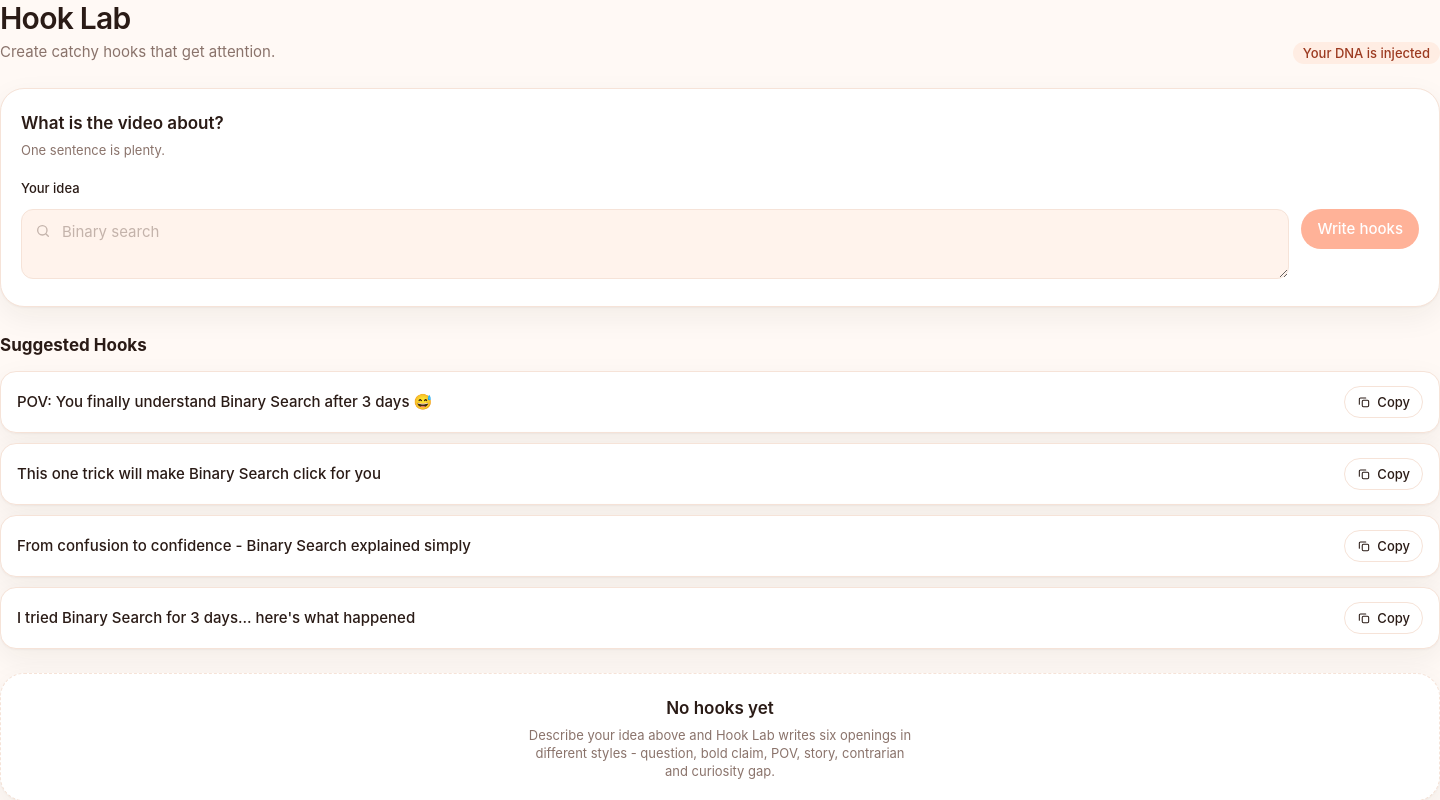
HookLabPage › edits a hook inline
The image size is (1440, 800).
In the text box labelled "Your idea": (655, 244) [21,209,1289,279], type "Explain binary search"
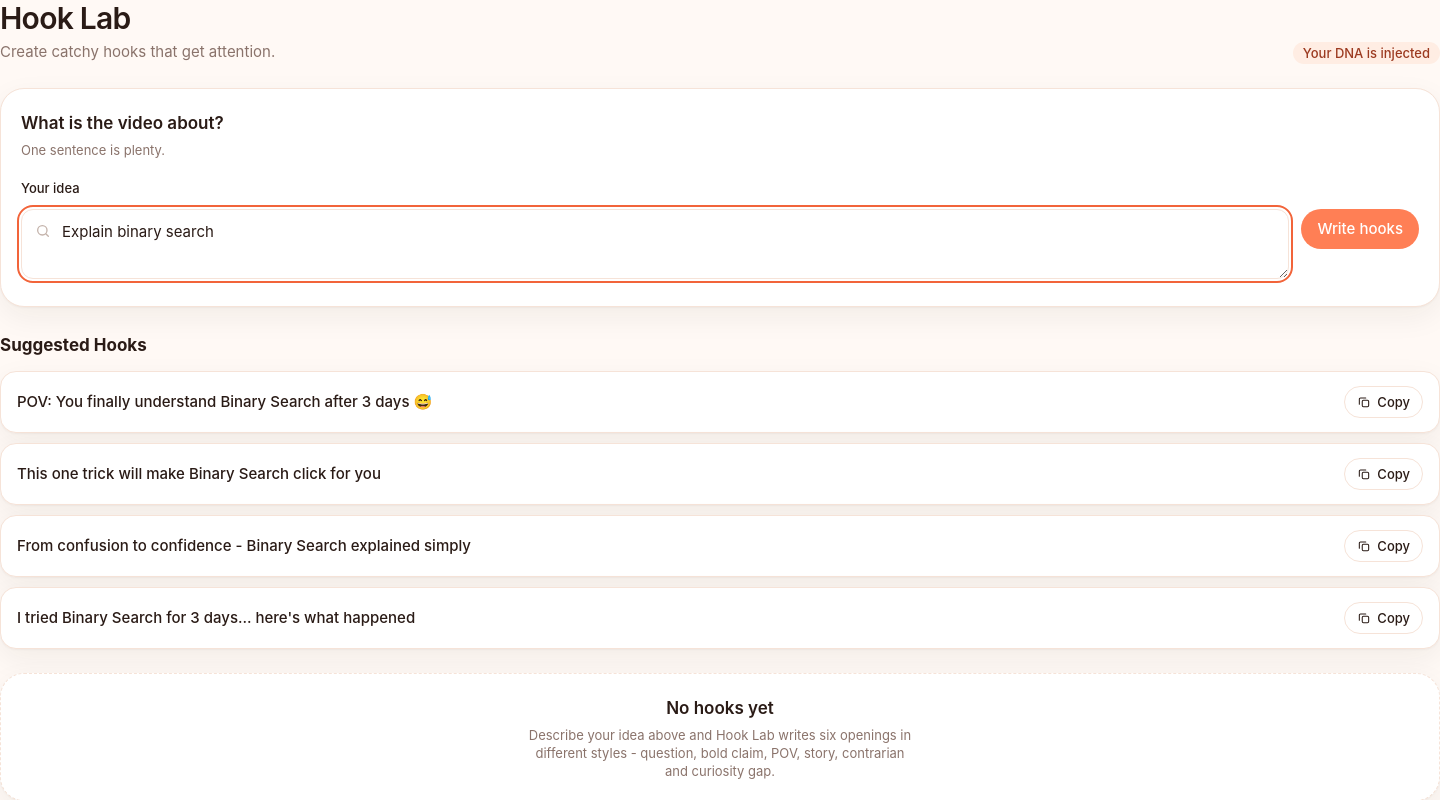
Click the button "Write hooks": click(1360, 229) [1301,209,1419,249]
(page scrolled)
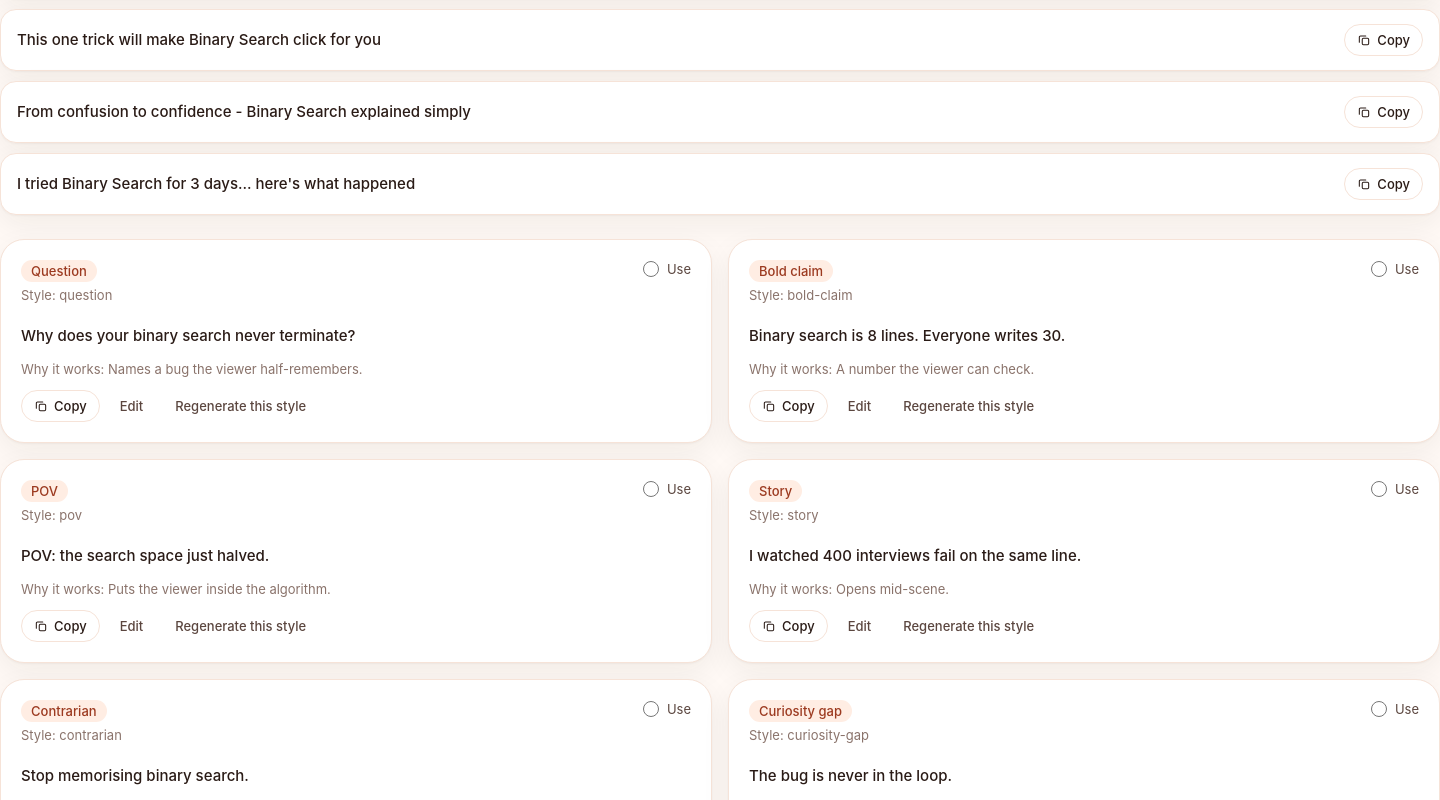
Result: the text "Why does your binary search never terminate?" is shown at [21,326,356,344]
Click the button "Edit" below "Names a bug the viewer half-remembers.": click(132, 406) [108,390,155,422]
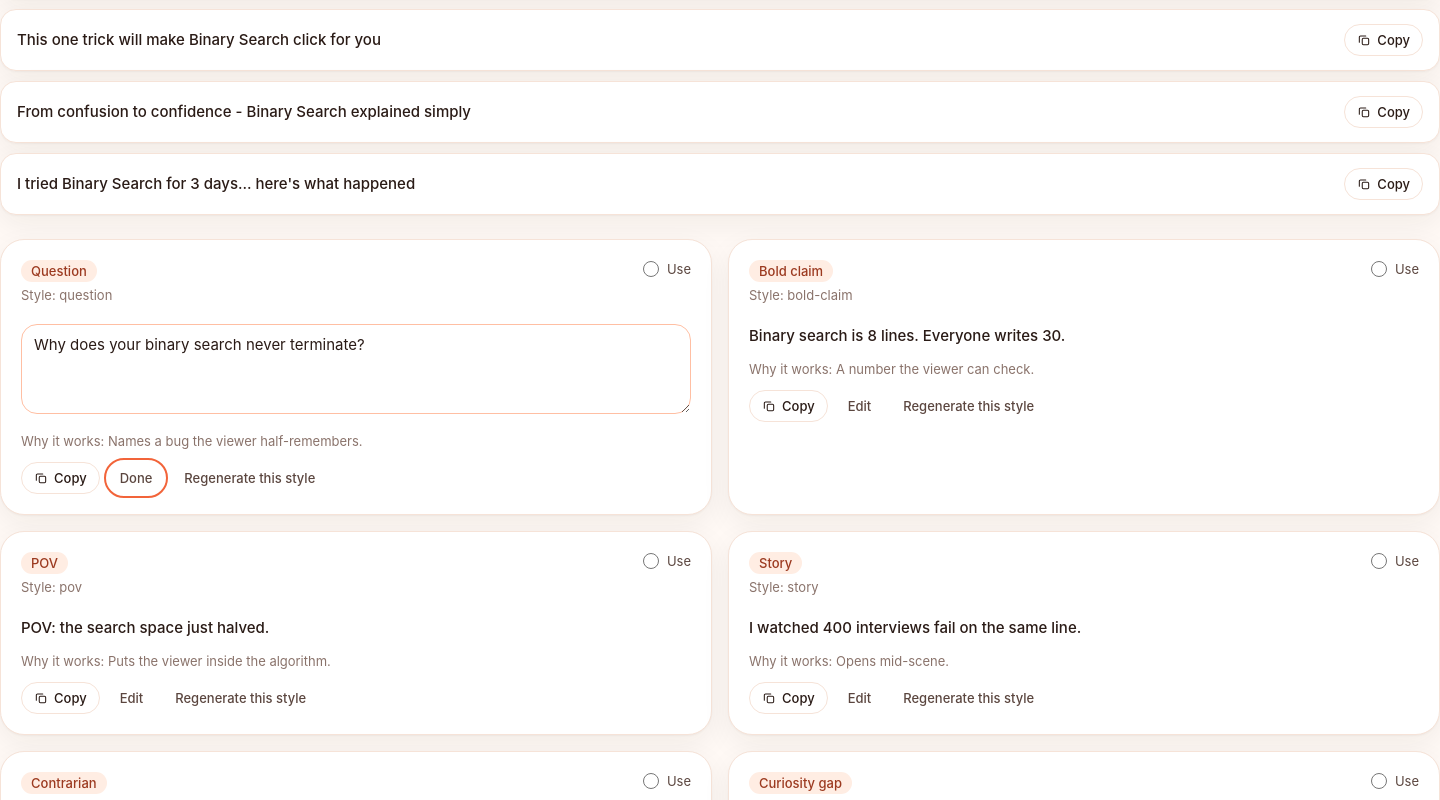
Replace the text in the text box named "Edit the Question hook" with "Why does binary search still feel impossible?": (356, 368) [21,324,691,414]
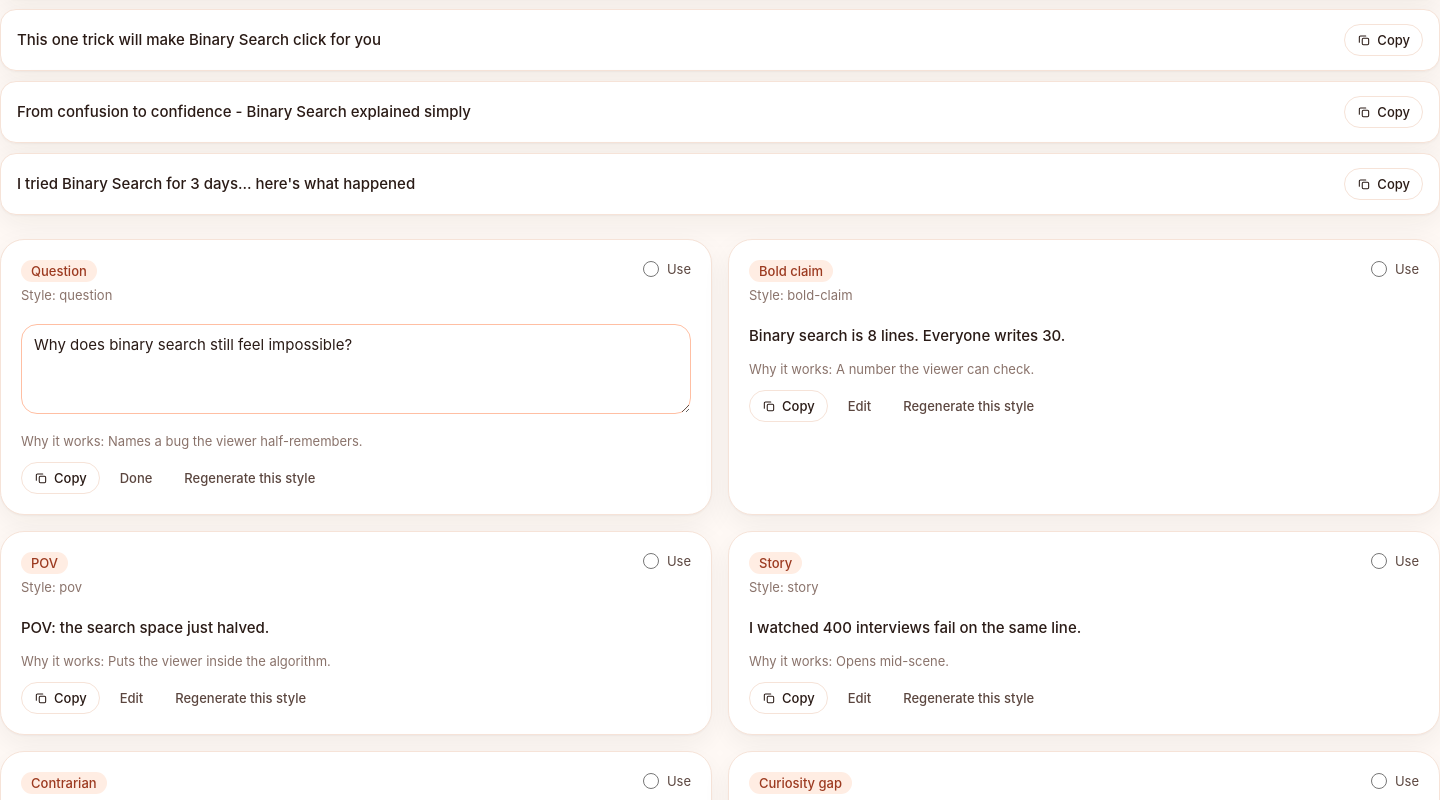
Click the button "Done": click(136, 478) [108,462,164,494]
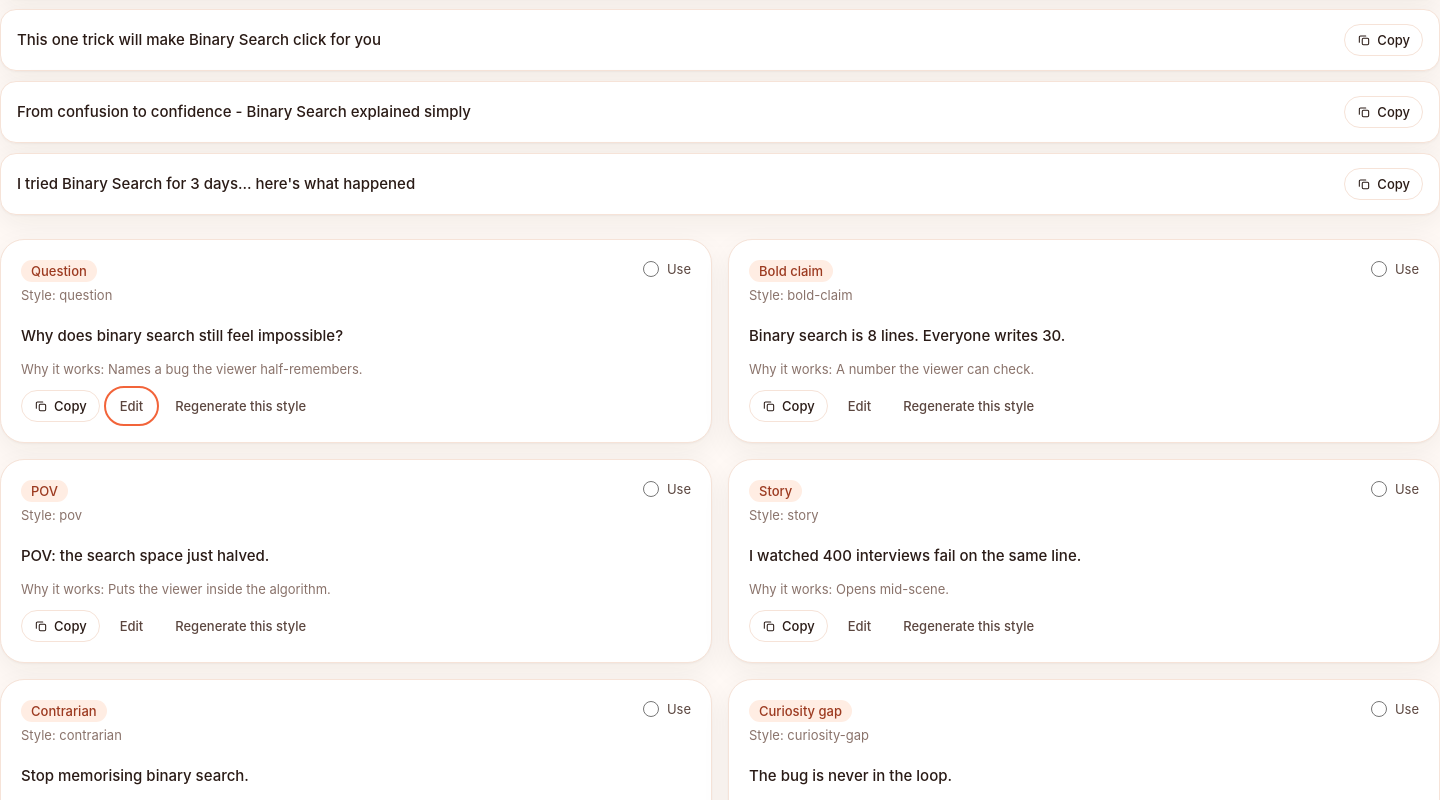
Result: the text "Why does binary search still feel impossible?" is shown at [21,326,343,344]
